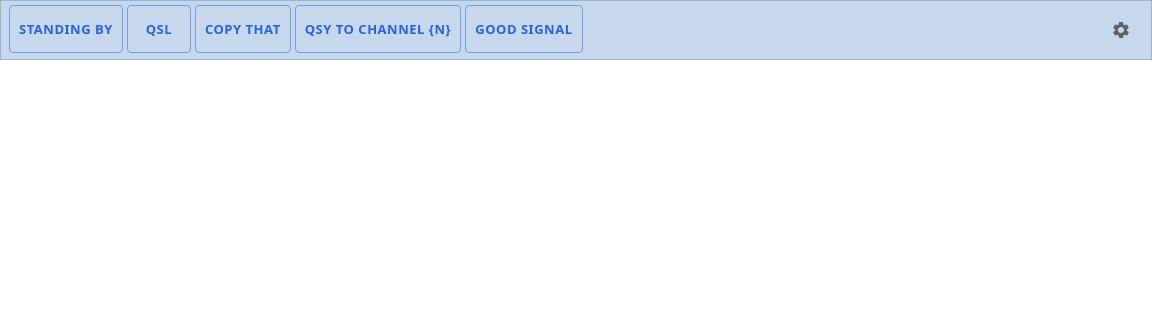
Test: QuickMessages › edit mode › trims whitespace from new phrases
The width and height of the screenshot is (1152, 332).
Click the button named "edit quick messages" at (1121, 30), box [1099,8,1143,52]
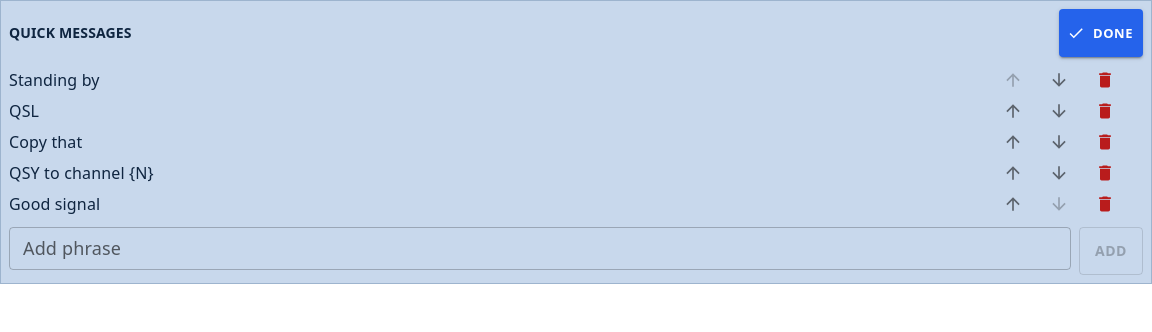
Type "  Trimmed  " into the field labelled "Add phrase" at (540, 249), box [9,227,1071,270]
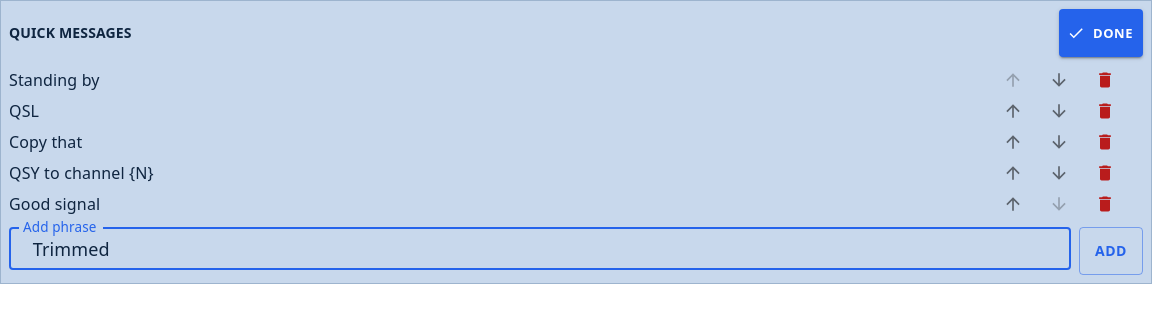
Click the button "ADD" at (1111, 251), box [1079,227,1143,275]
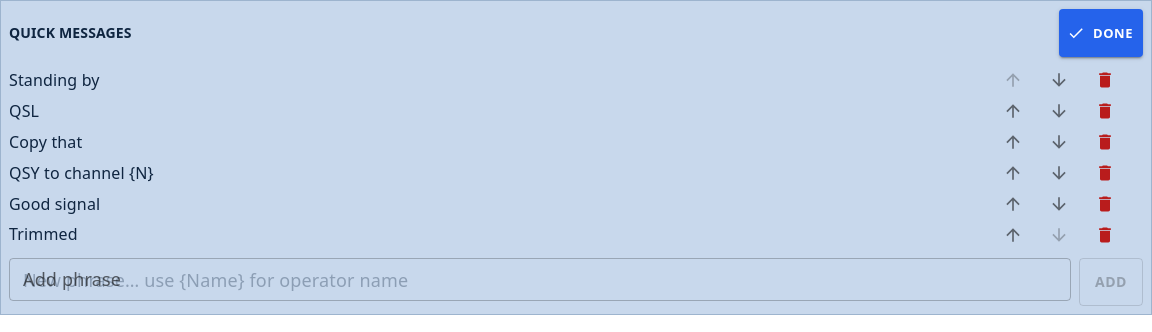
Expected: the text "Trimmed" is shown, [9,223,78,245]
